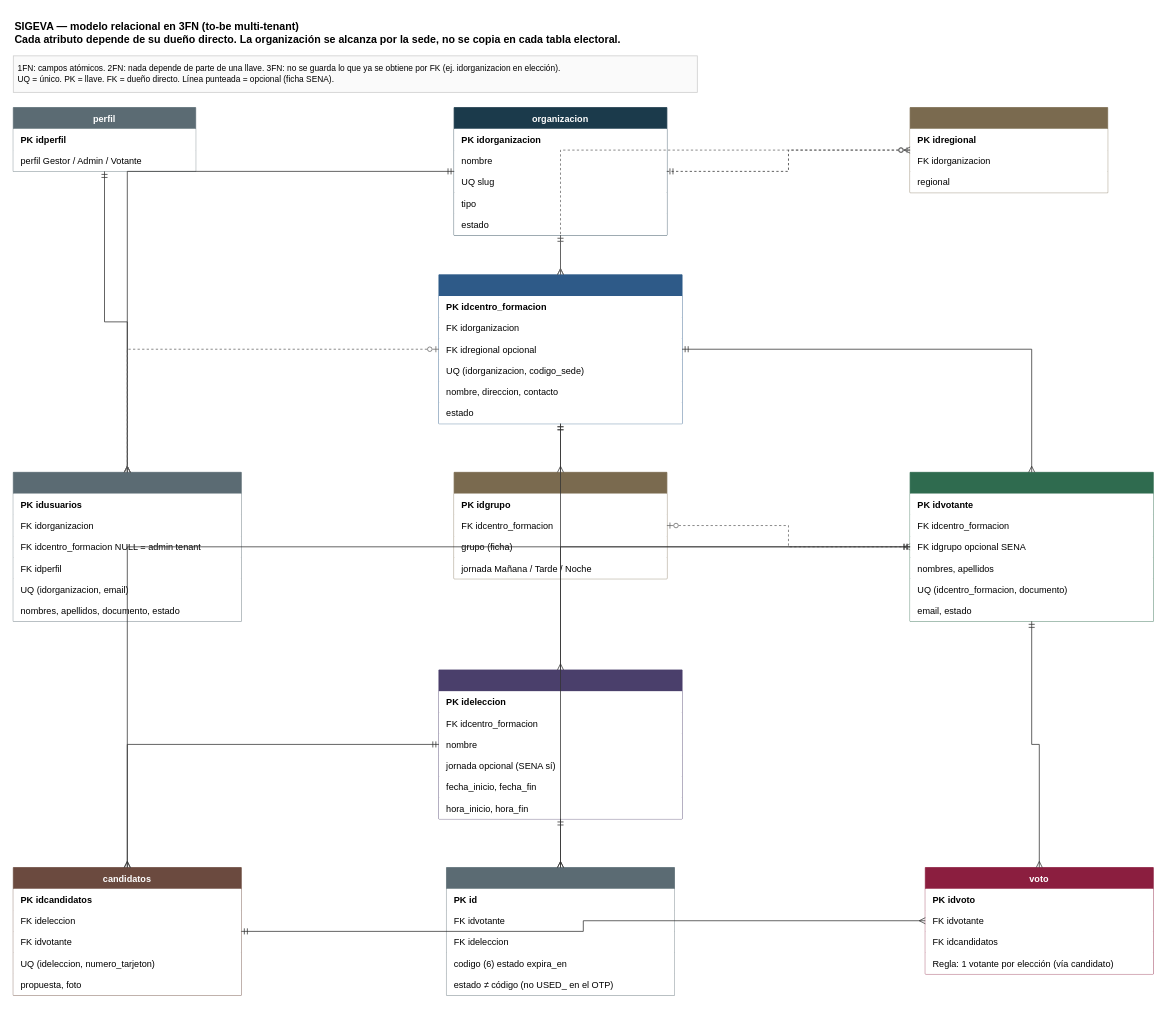
This 1167x1009 diagram has some shape labels left out. The box of each missing label's shape, as (x1, y1, x2, y2) in pixels:
centro_formacion (sede): (438, 274, 682, 424)
elecciones: (438, 669, 682, 819)
grupo (ficha SENA, opcional): (453, 472, 667, 579)
regional (catálogo SENA): (909, 107, 1108, 193)
usuarios (gestor): (13, 472, 241, 621)
validacion_voto (OTP): (446, 867, 674, 995)
votante (censo): (909, 472, 1153, 621)
